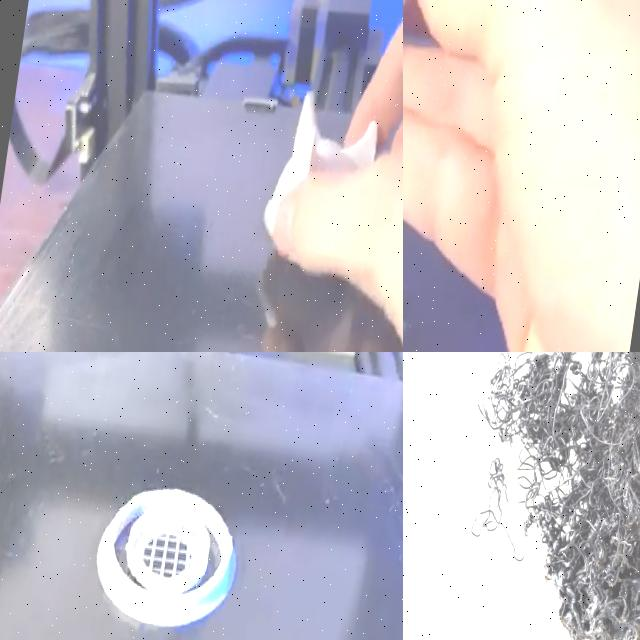spaghetti: (481, 352, 640, 640), (469, 459, 535, 567)
